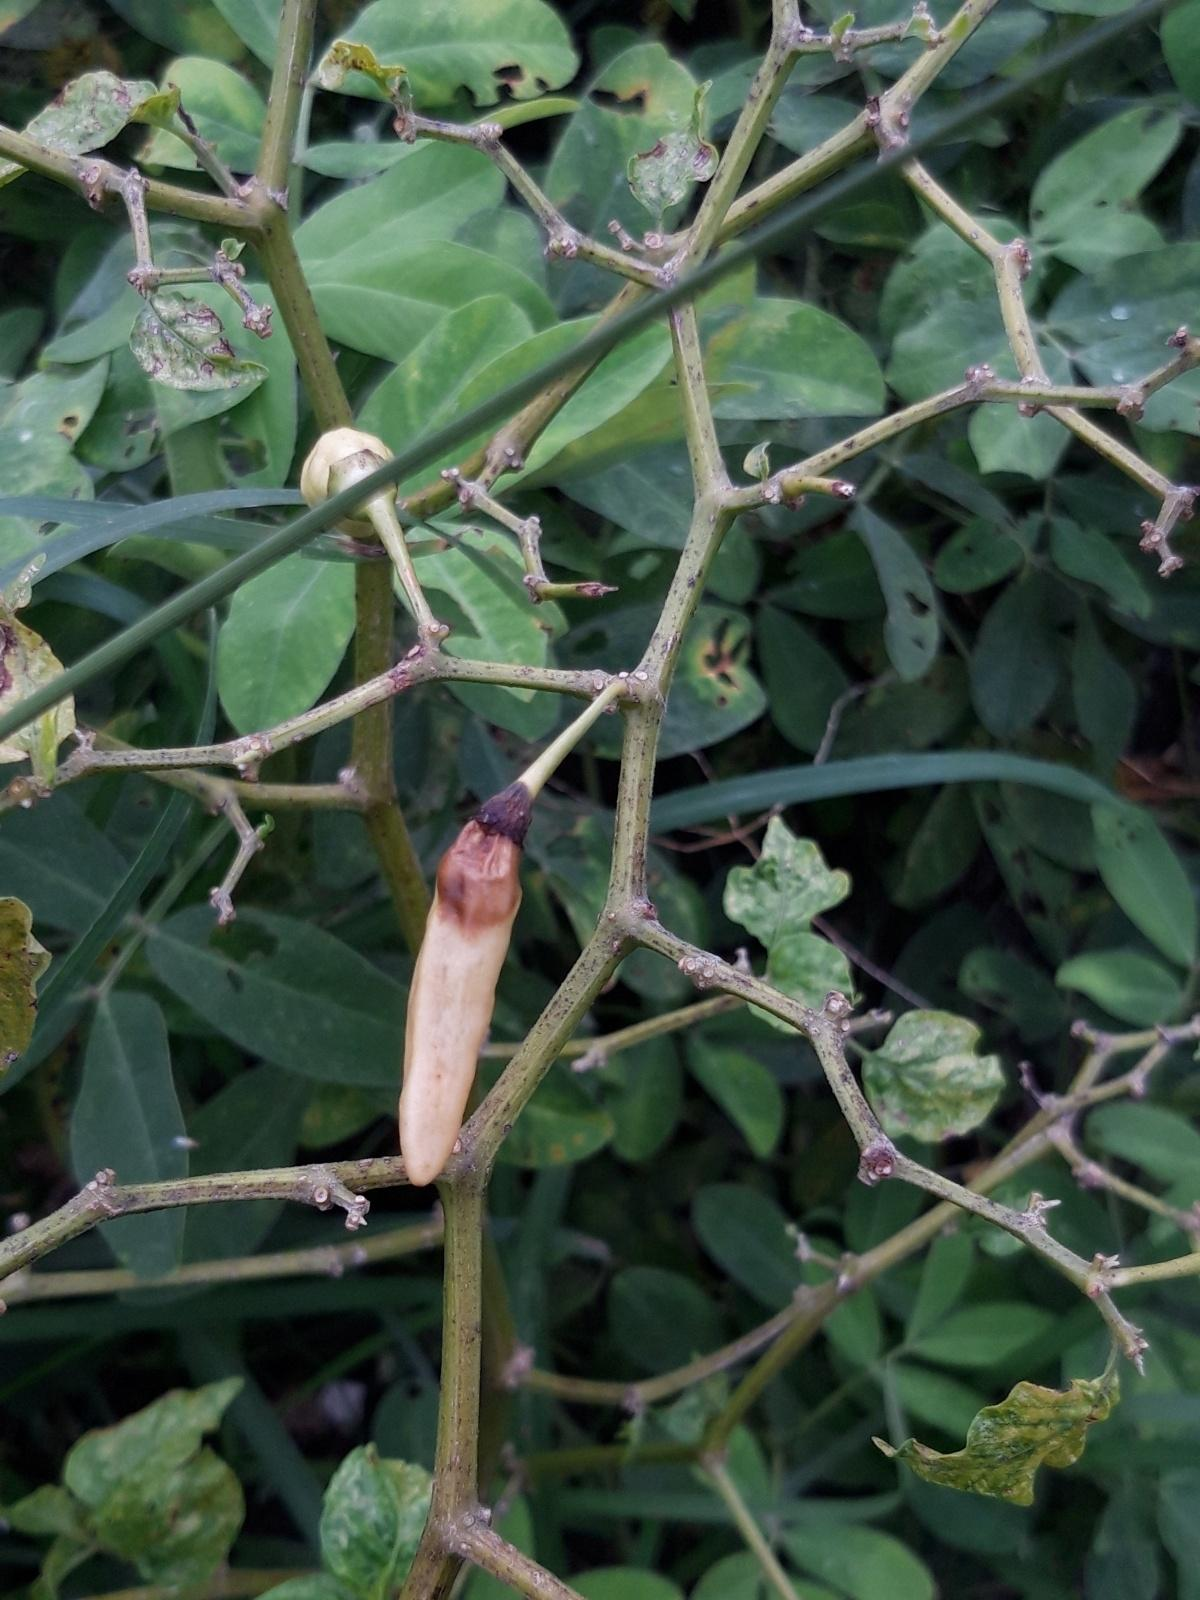lalat_buah: (389, 785, 537, 1188)
